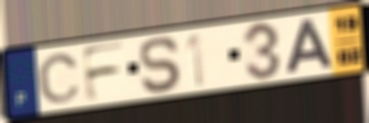1: (185, 33, 206, 86)
3: (241, 20, 283, 83)
A: (282, 17, 337, 76)
C: (35, 52, 83, 105)
F: (79, 40, 128, 105)
S: (138, 35, 185, 95)
